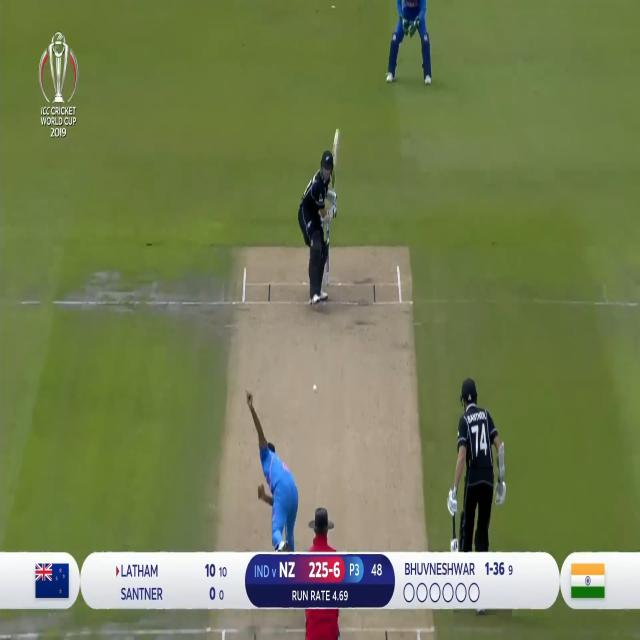ball: (312, 381, 320, 395)
